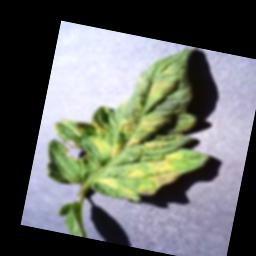Leaf_Mold: (38, 23, 228, 213)
